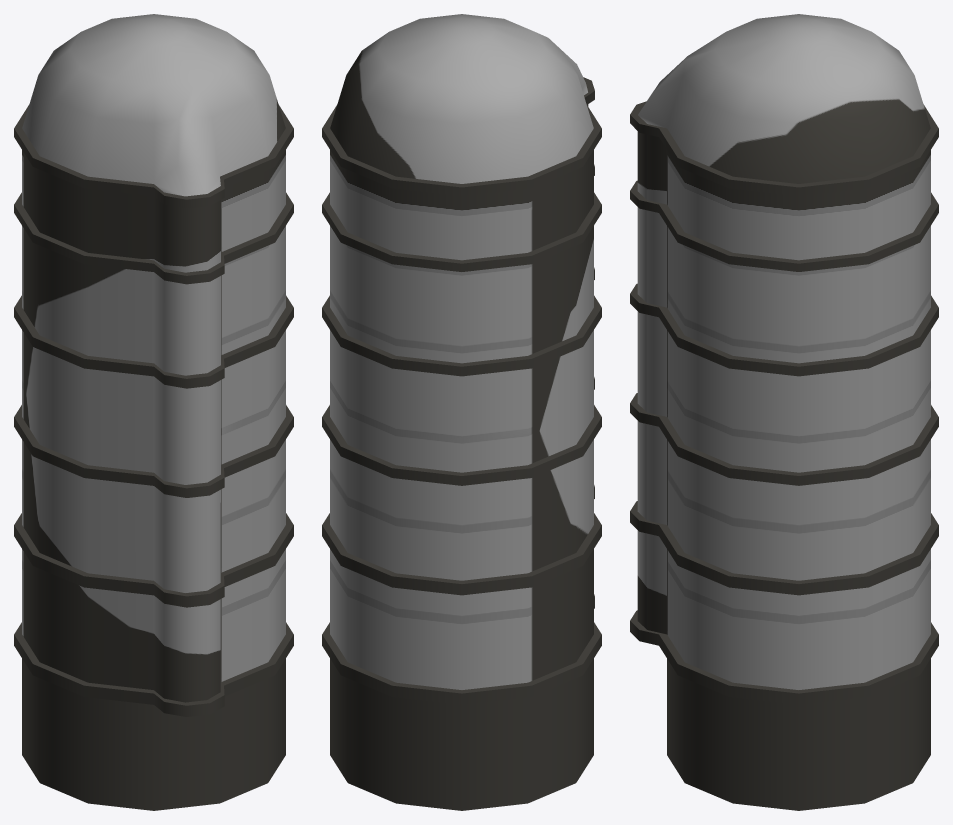
The model's file is Silo.fbx.
3 views of the same model, side by side, from view 1: azimuth 30°, elevation 25°; view 2: azimuth 150°, elevation 25°; view 3: azimuth 270°, elevation 25° (orthographic).
Parts seen in each view (by area): view 1: pCylinder1; view 2: pCylinder1; view 3: pCylinder1.
Part boxes in pixels (x1,y1,x2,y2): pCylinder1: [14, 14, 293, 810]; pCylinder1: [322, 14, 601, 810]; pCylinder1: [630, 14, 938, 810].
Size of the model in its own units: 6.26 by 17.96 by 6.91.
